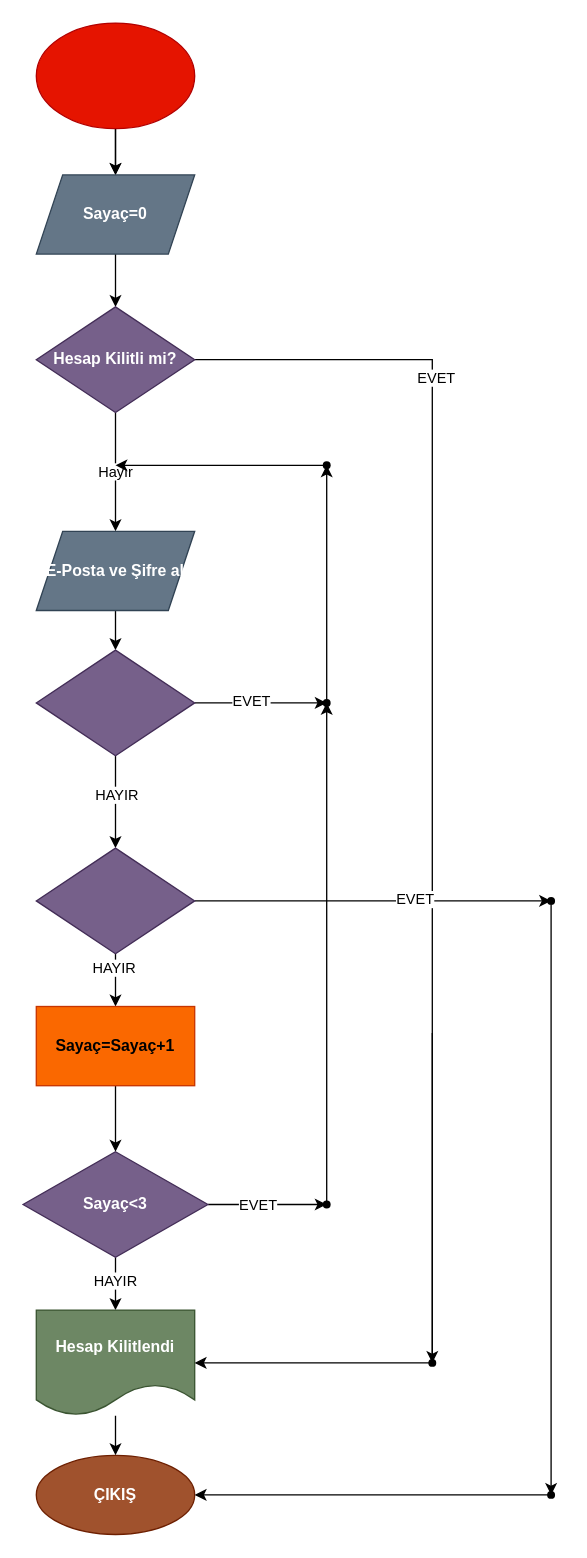
Image size: 587x1558. Some labels were removed from this diagram. Each missing label, with the centre of its shape:
Bilgi doğru mu?: (x=115, y=900)
E-Posta ve Şifre boş mu?: (x=115, y=702)
GİRİŞ: (x=115, y=75)
